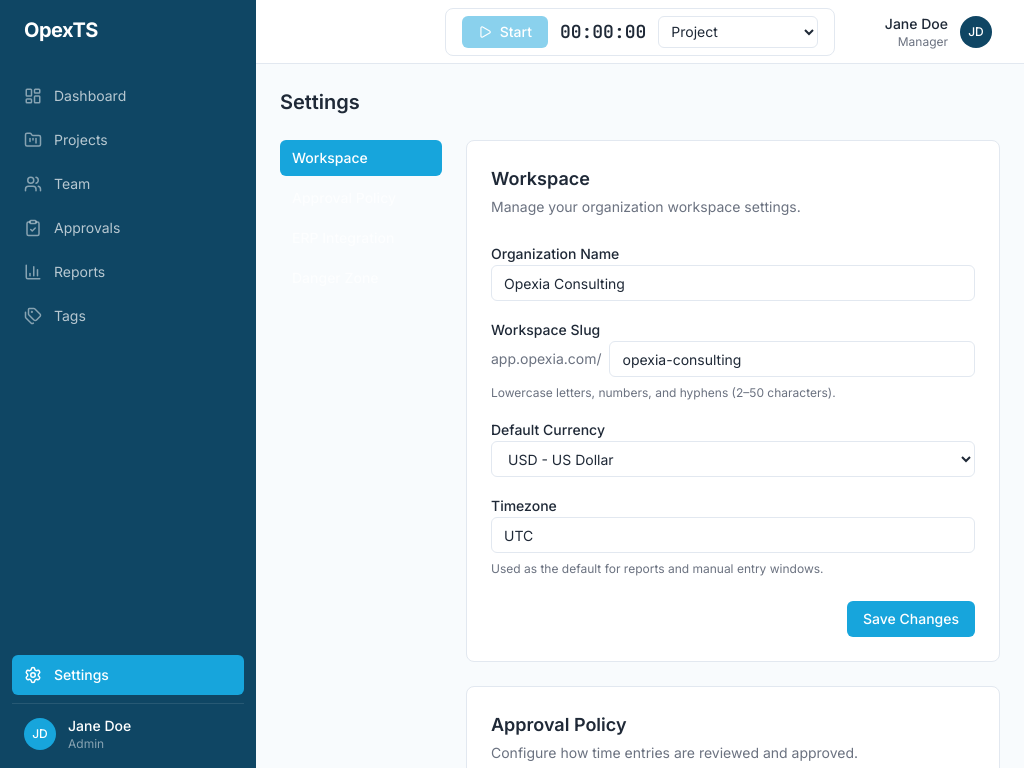
Test: Settings page › saves workspace edits via PATCH and confirms with a Saved indicator
Replace the text in the field labelled "Organization Name" with "Acme Consulting". click: (733,283)
box: [491, 265, 975, 301]
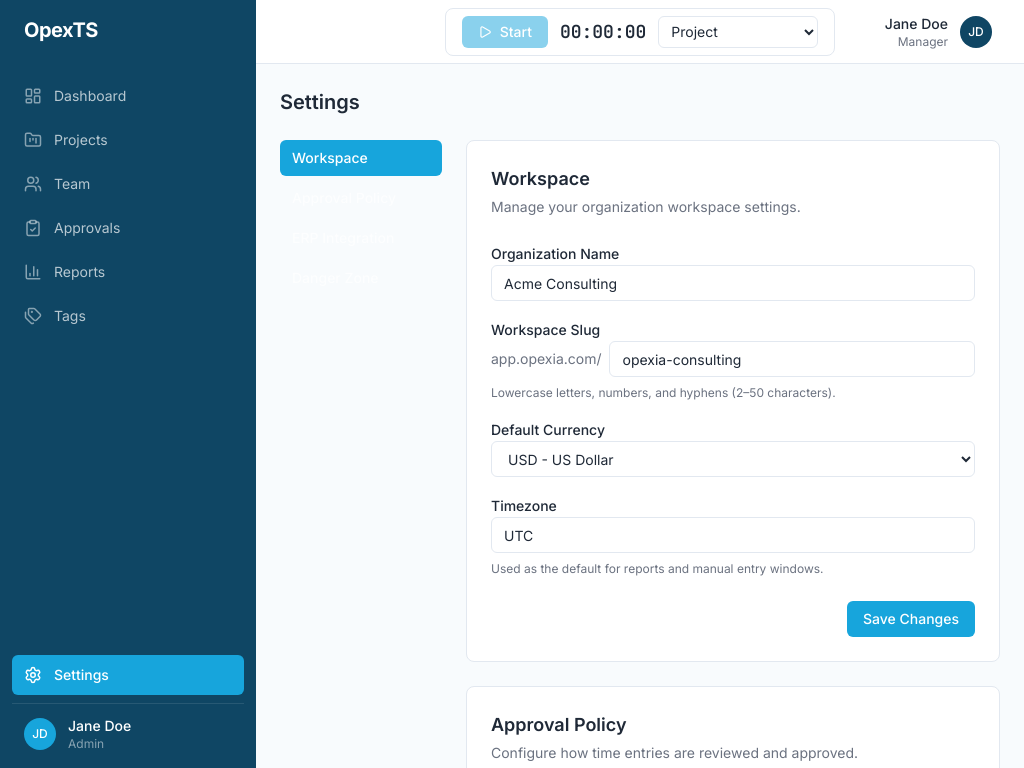
Select "EUR - Euro" in the dropdown labelled "Default Currency". click: (733,459)
box: [491, 441, 975, 477]
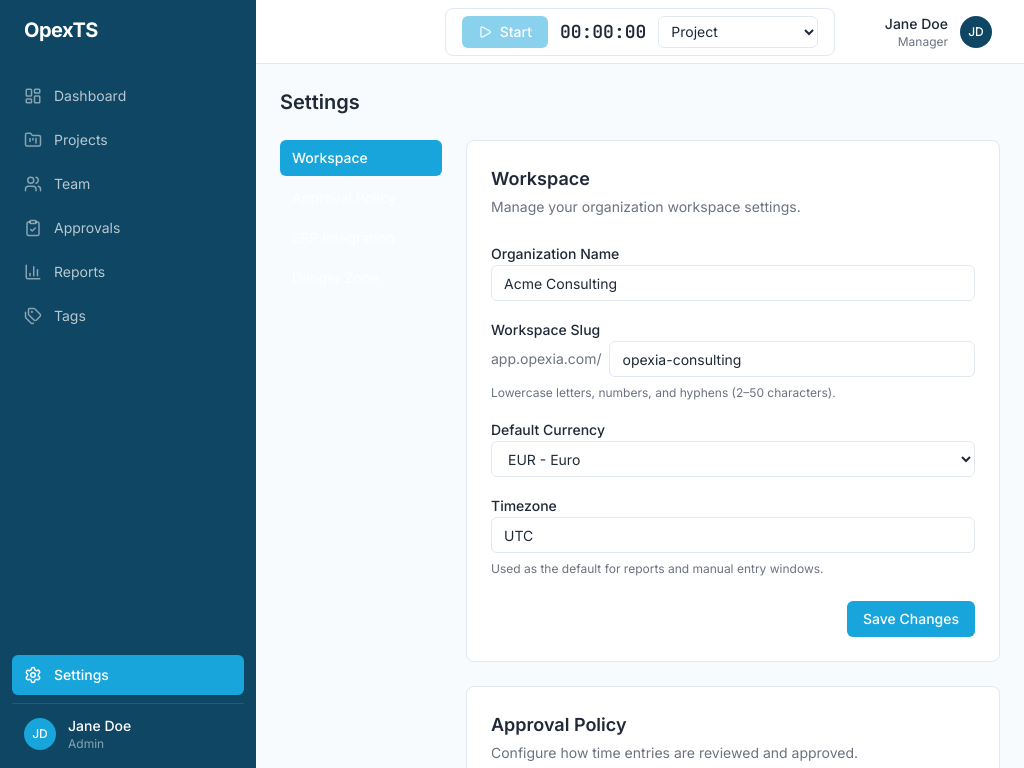
Type "Europe/Berlin" into the field labelled "Timezone". click: (733,535)
box: [491, 517, 975, 553]
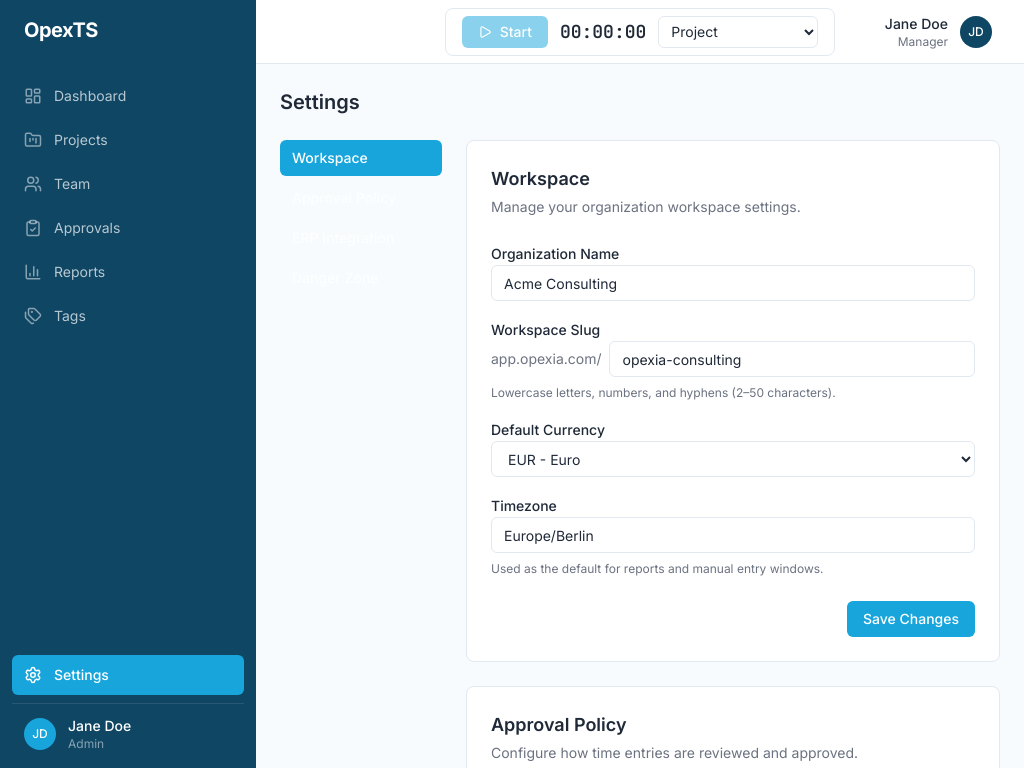
Click the button "Save Changes". click: (911,619)
box: [847, 601, 975, 637]
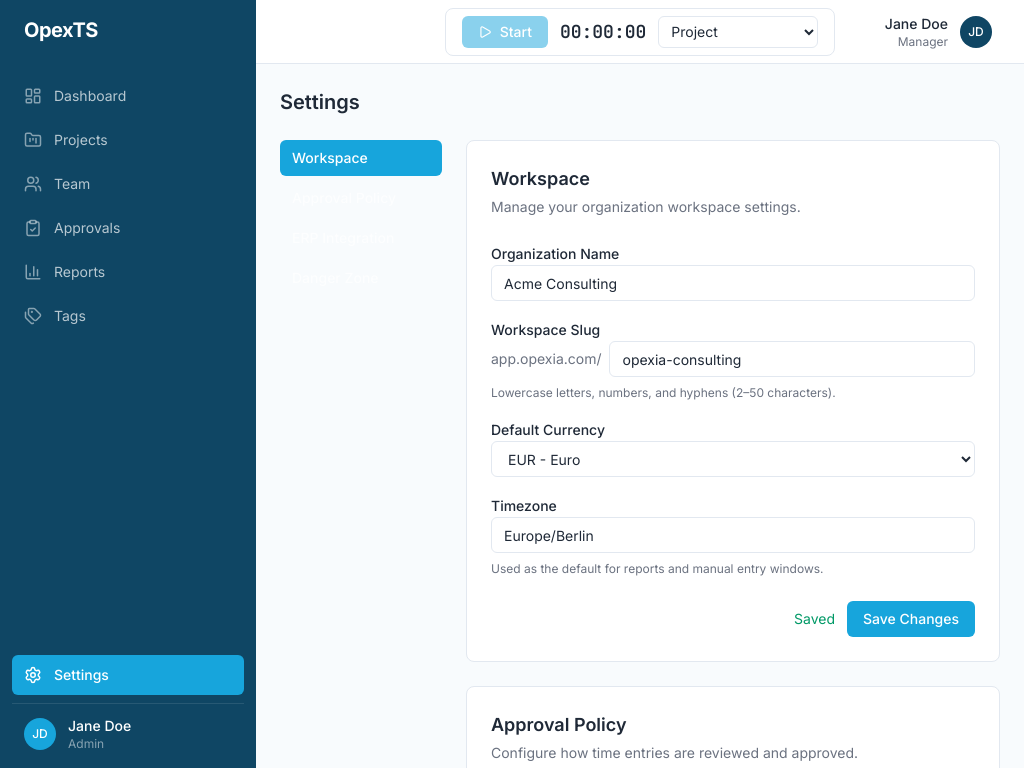
Expected: the text "Saved" is shown, [794, 609, 835, 629]
